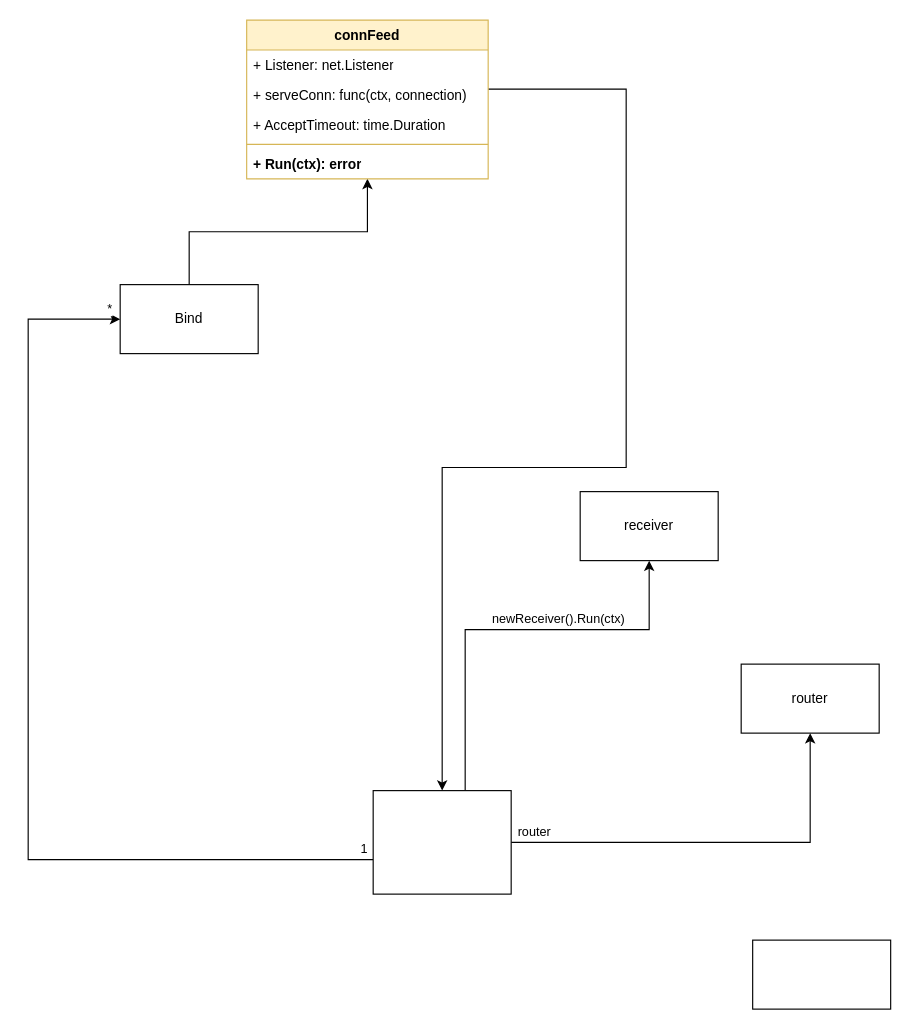
Some shapes in this 911 by 1029 pixel diagram are drawn without their labels. The centre of each missing label's shape, as x and y in pixels:
pubHandler: (x=821, y=974)
Server: (x=441, y=841)
